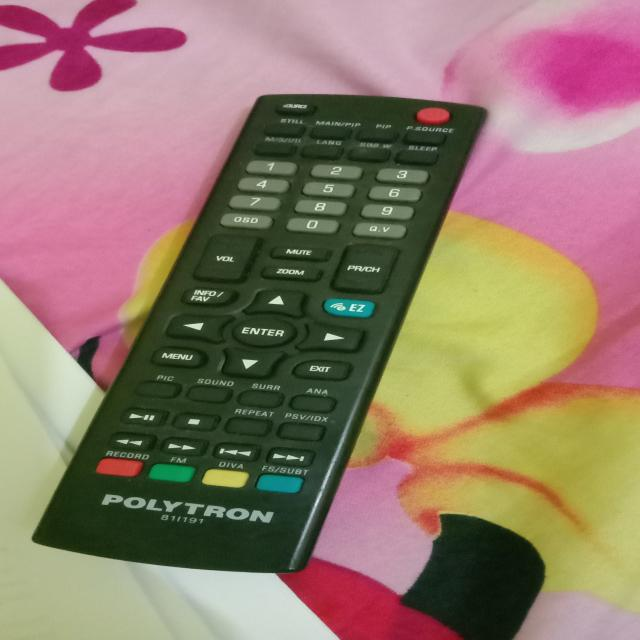remote: (16, 88, 508, 577)
